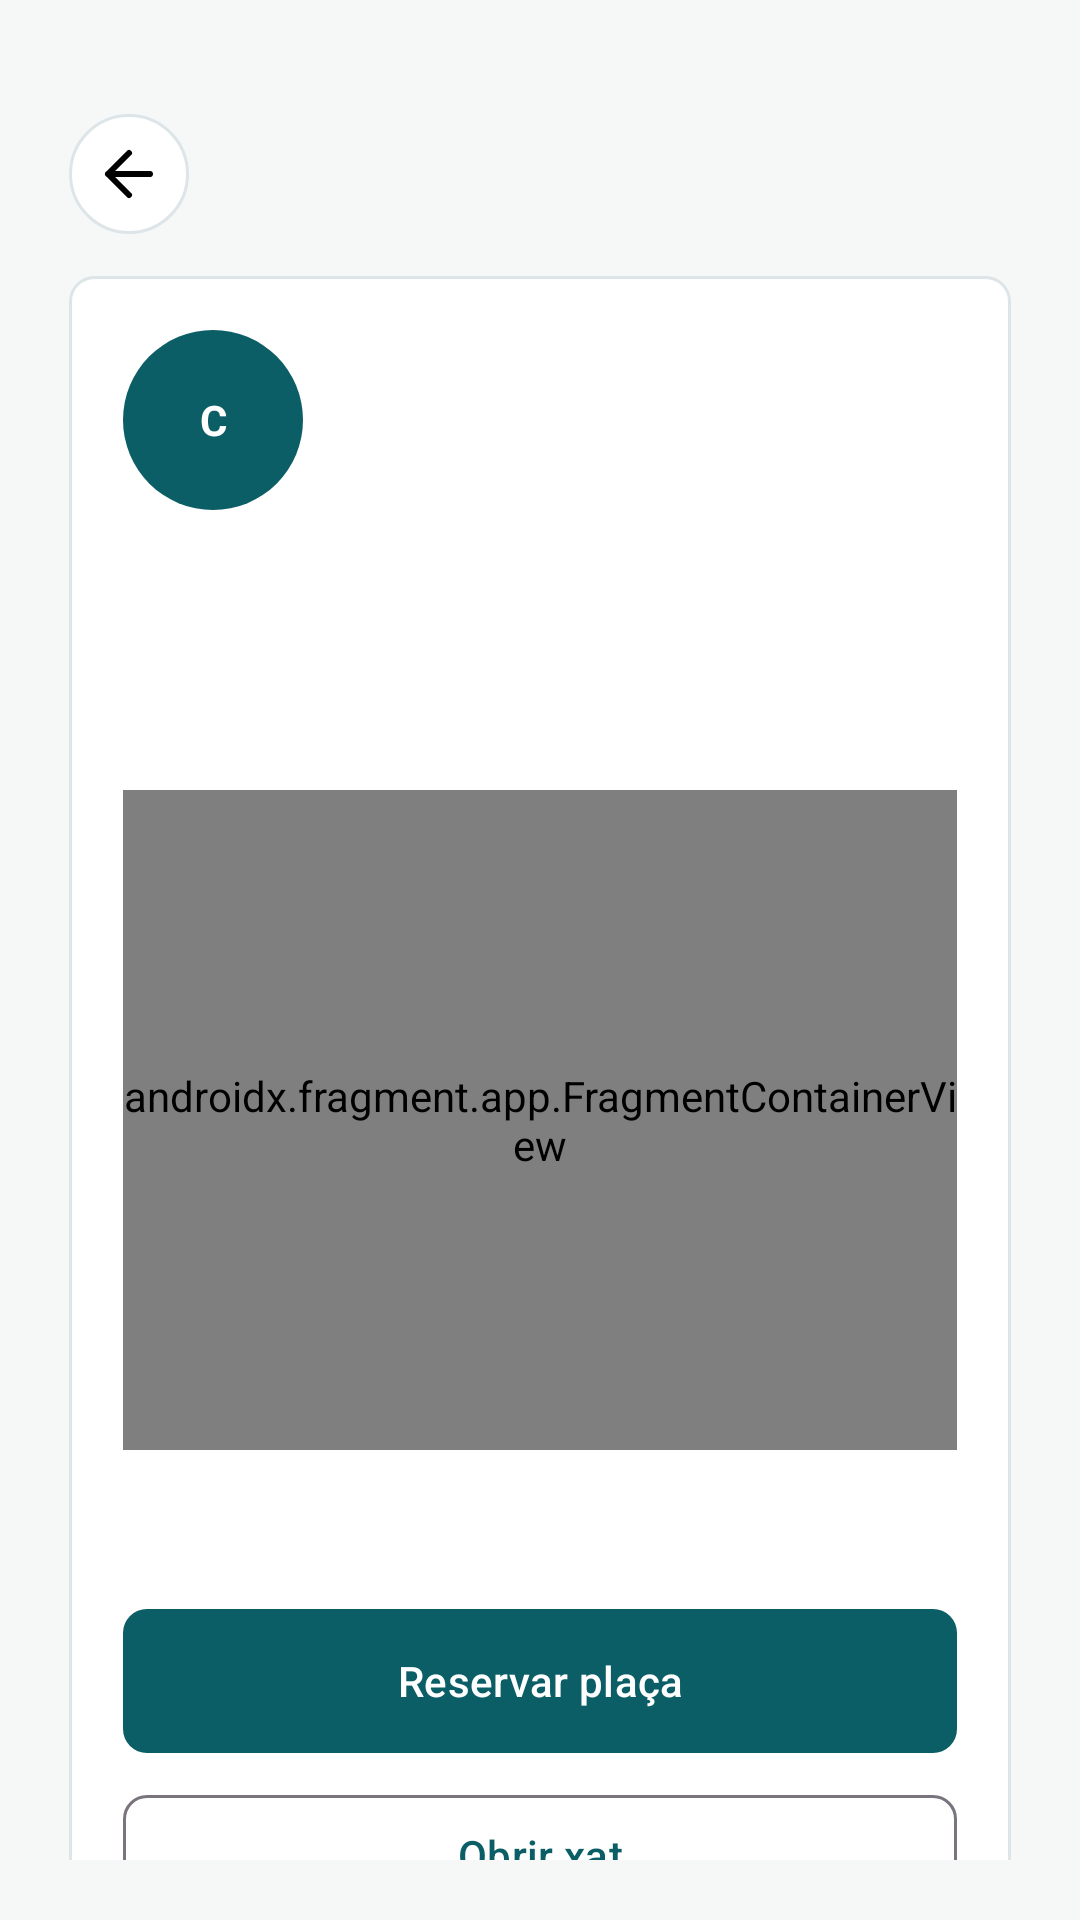

Icons on this 1080 × 1920 Android screen, each with its box as (x1, y1, x2, y2):
Torna enrere: (69, 114, 189, 234)
